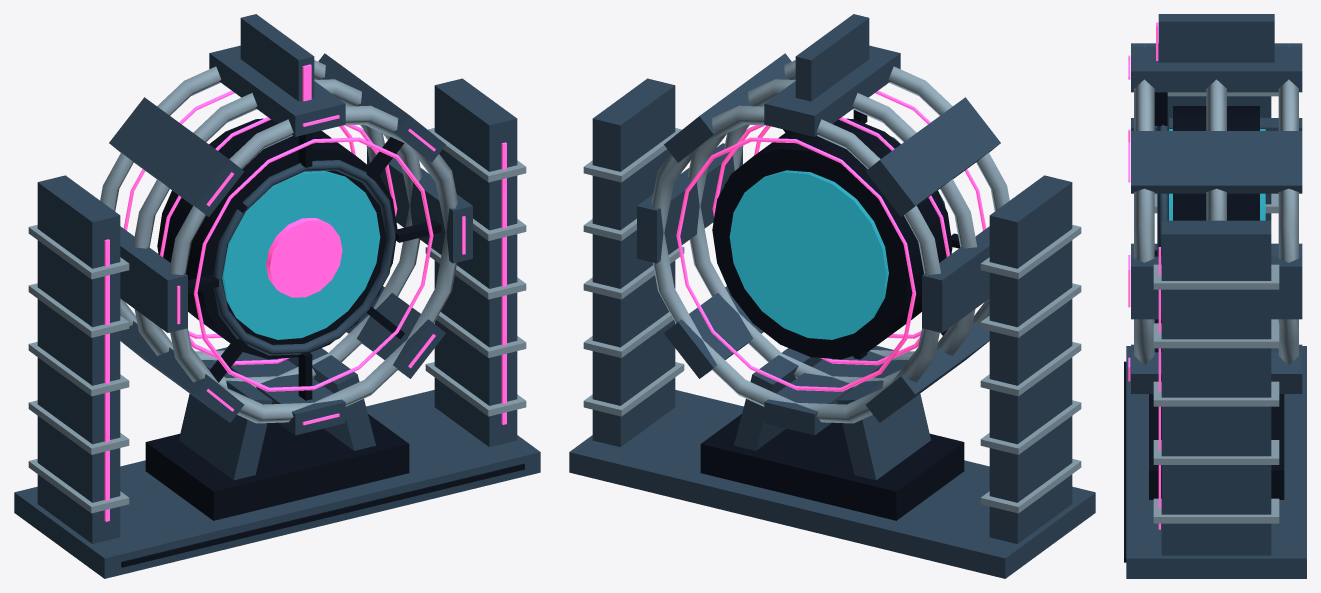
The model's file is core.glb.
The picture shows the model from 3 angles, left to right: view 1: azimuth 30°, elevation 25°; view 2: azimuth 150°, elevation 25°; view 3: azimuth 270°, elevation 25°; orthographic projection.
Parts seen in each view (by area): view 1: setpiece-core-sz-armor, setpiece-core-sz-rubber, setpiece-core-sz-edge, setpiece-core-sz-screen, setpiece-core-sz-pink; view 2: setpiece-core-sz-armor, setpiece-core-sz-edge, setpiece-core-sz-rubber, setpiece-core-sz-screen, setpiece-core-sz-pink; view 3: setpiece-core-sz-armor, setpiece-core-sz-edge, setpiece-core-sz-rubber, setpiece-core-sz-pink, setpiece-core-sz-screen.
Part boxes in pixels (x1=…): setpiece-core-sz-armor: x1=14, y1=14, x2=540, y2=578; setpiece-core-sz-rubber: x1=121, y1=118, x2=524, y2=567; setpiece-core-sz-edge: x1=28, y1=60, x2=526, y2=513; setpiece-core-sz-screen: x1=222, y1=171, x2=380, y2=339; setpiece-core-sz-pink: x1=104, y1=64, x2=506, y2=521; setpiece-core-sz-armor: x1=569, y1=14, x2=1095, y2=578; setpiece-core-sz-edge: x1=583, y1=60, x2=1081, y2=513; setpiece-core-sz-rubber: x1=700, y1=110, x2=964, y2=520; setpiece-core-sz-screen: x1=729, y1=170, x2=888, y2=339; setpiece-core-sz-pink: x1=676, y1=90, x2=986, y2=391; setpiece-core-sz-armor: x1=1126, y1=14, x2=1306, y2=578; setpiece-core-sz-edge: x1=1134, y1=46, x2=1298, y2=523; setpiece-core-sz-rubber: x1=1124, y1=92, x2=1284, y2=562; setpiece-core-sz-pink: x1=1128, y1=22, x2=1160, y2=529; setpiece-core-sz-screen: x1=1169, y1=129, x2=1265, y2=220.
Bounding box in the file's own units: 7.8 × 7.78 × 2.83.
